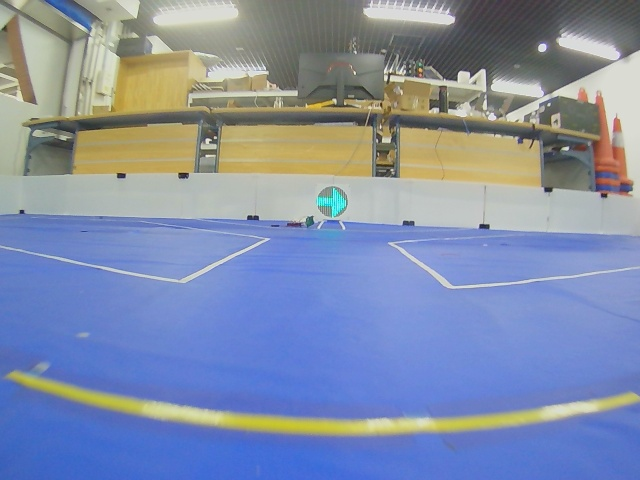right_green: (316, 186, 348, 218)
